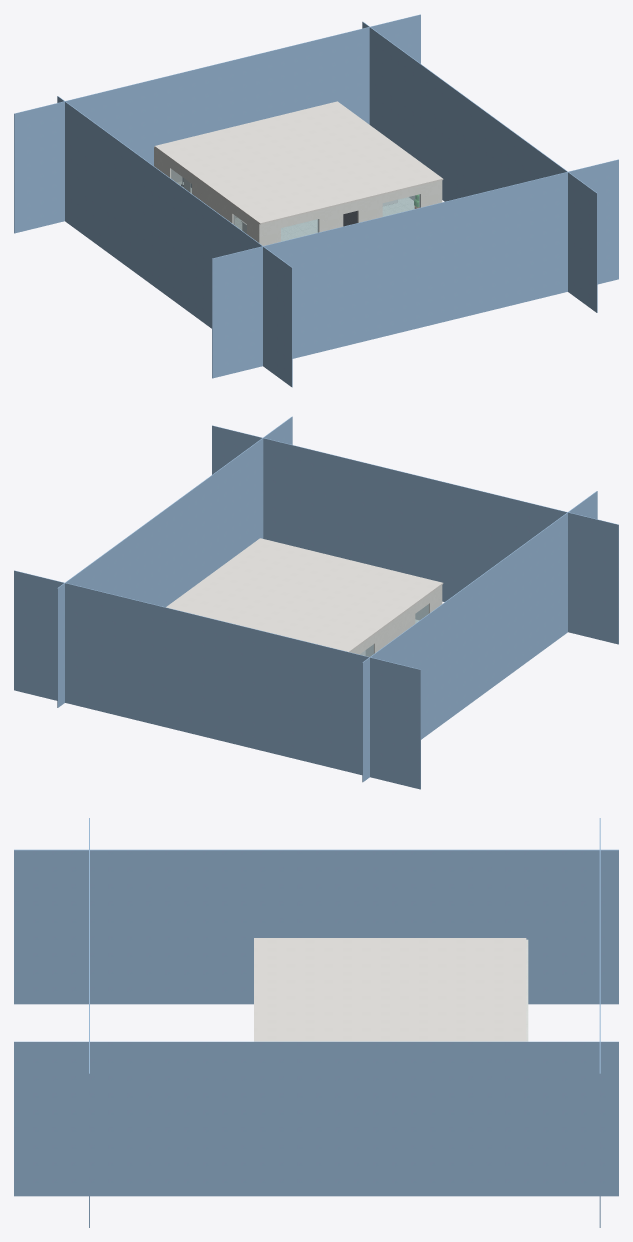
Rendered from interior.glb.
3 renders of one model, top to bottom at view 1: azimuth 30°, elevation 25°; view 2: azimuth 150°, elevation 25°; view 3: azimuth 270°, elevation 25°, orthographic. The views are drawn at different scales.
Parts seen in each view (by area): view 1: Sky_Front.011, Sky_Back.010, Sky_West.010, Ceiling.014, Sky_East.010, House_Floor_Main.003, Walls_W_01.010, Walls_Front_01.010, Walls_Front_02.010, Walls_Front_Glass2.003, Walls_Front_Glass0.003; view 2: Sky_Back.010, Sky_Front.011, Sky_West.010, Ceiling.014, Sky_East.010, Walls_W_01.010; view 3: Sky_East.010, Sky_West.010, Ceiling.014, Sky_Back.010.
Part boxes in pixels (x1=…): Sky_Front.011: x1=212, y1=159, x2=618, y2=378; Sky_Back.010: x1=14, y1=14, x2=420, y2=233; Sky_West.010: x1=57, y1=96, x2=292, y2=387; Ceiling.014: x1=154, y1=101, x2=443, y2=224; Sky_East.010: x1=362, y1=21, x2=597, y2=312; House_Floor_Main.003: x1=177, y1=181, x2=414, y2=241; Walls_W_01.010: x1=192, y1=175, x2=234, y2=224; Walls_Front_01.010: x1=317, y1=204, x2=343, y2=232; Walls_Front_02.010: x1=357, y1=195, x2=382, y2=222; Walls_Front_Glass2.003: x1=382, y1=194, x2=420, y2=216; Walls_Front_Glass0.003: x1=281, y1=219, x2=318, y2=241; Sky_Back.010: x1=14, y1=570, x2=420, y2=789; Sky_Front.011: x1=212, y1=425, x2=618, y2=644; Sky_West.010: x1=362, y1=491, x2=597, y2=782; Ceiling.014: x1=166, y1=538, x2=443, y2=652; Sky_East.010: x1=57, y1=416, x2=292, y2=707; Walls_W_01.010: x1=372, y1=605, x2=415, y2=654; Sky_East.010: x1=14, y1=1041, x2=618, y2=1196; Sky_West.010: x1=14, y1=849, x2=618, y2=1004; Ceiling.014: x1=254, y1=938, x2=526, y2=1041; Sky_Back.010: x1=599, y1=818, x2=600, y2=1227.
Size of the model in its own units: 32 by 9 by 32.
Materials: 30 (29 with a texture image).
